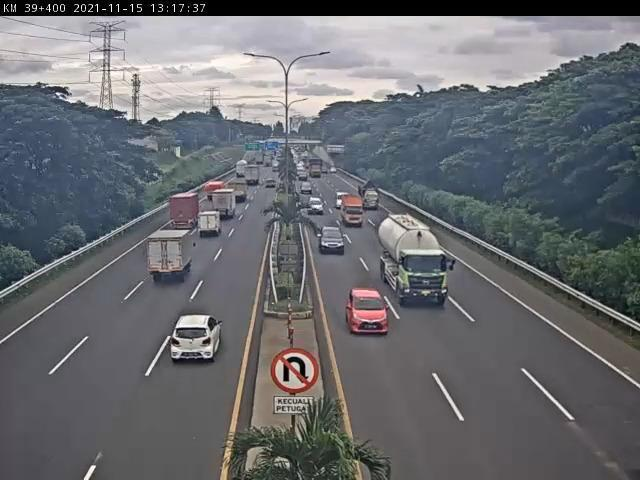car: (173, 316, 226, 367), (348, 290, 390, 336), (319, 227, 344, 256), (309, 197, 326, 217)
truck: (379, 216, 452, 311), (146, 228, 197, 287), (171, 194, 204, 229), (359, 179, 383, 212), (213, 189, 239, 219), (342, 195, 365, 228), (198, 212, 224, 238), (228, 182, 248, 204), (205, 181, 226, 201)
